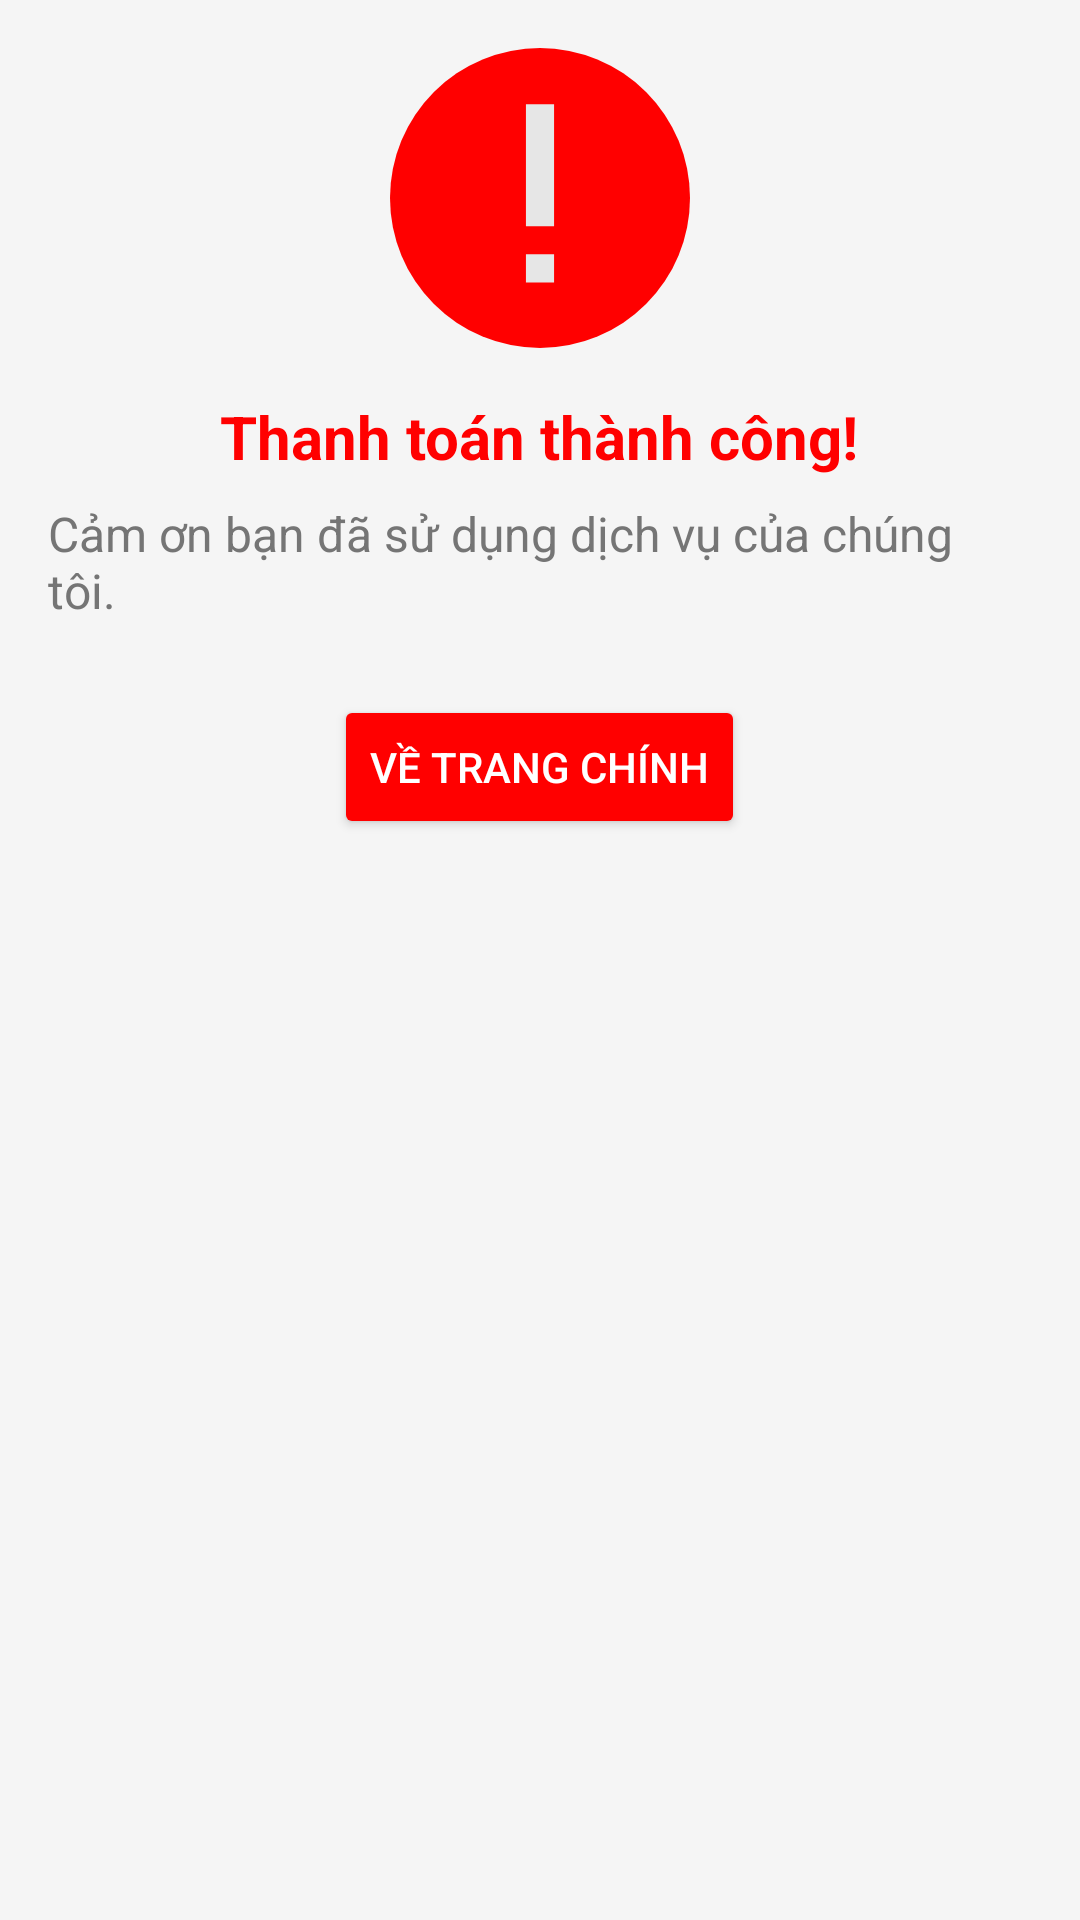

Icons on this 1080×1920 Android screen, each with the point to tap as (x,y):
error: (540,198)
